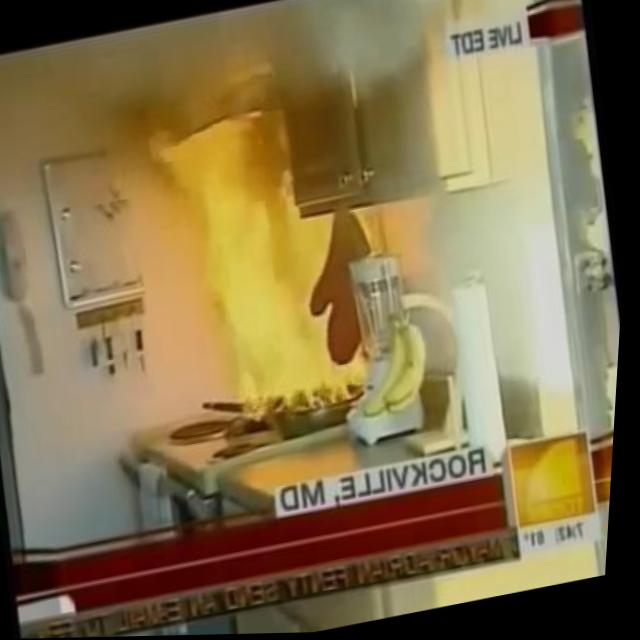fire: (142, 80, 387, 432)
